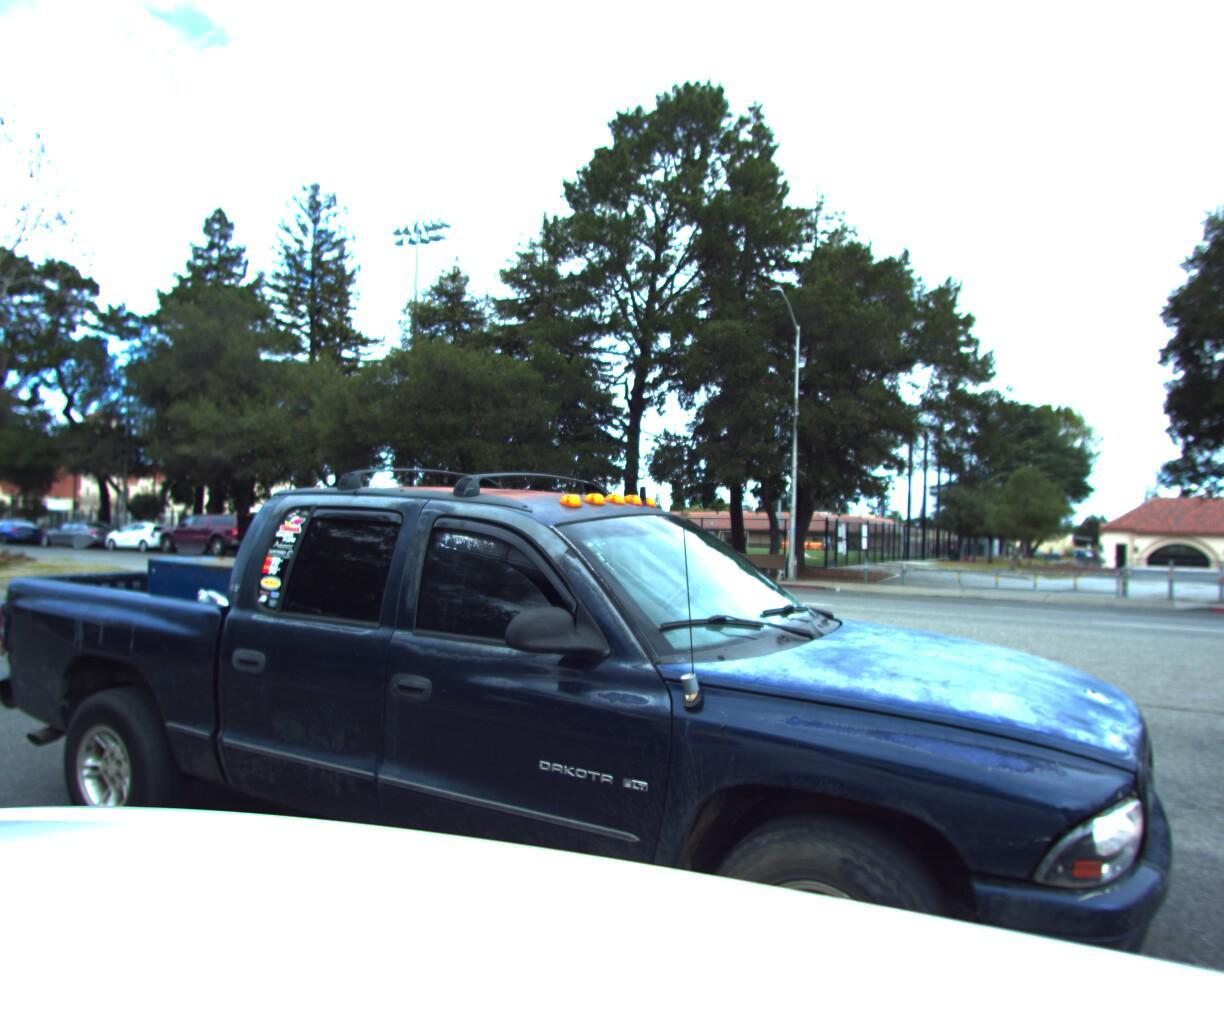car: (0, 369, 1187, 1024), (150, 505, 276, 555), (33, 513, 125, 546), (97, 515, 184, 548), (0, 513, 47, 542)
